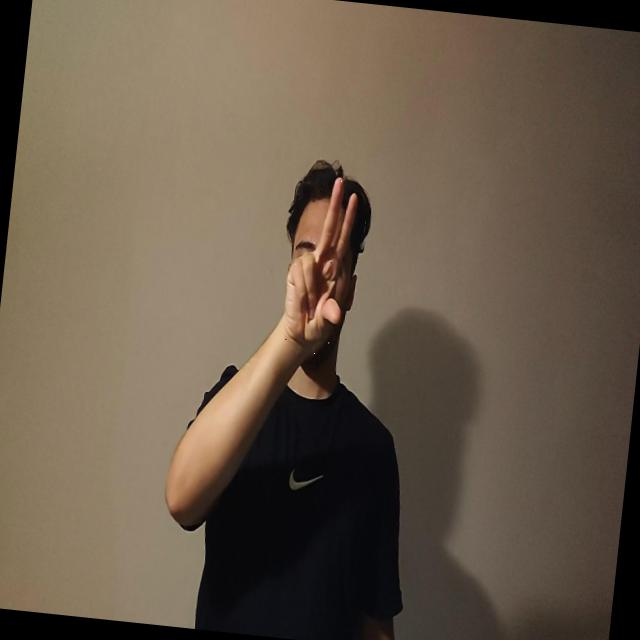no: (277, 170, 362, 364)
